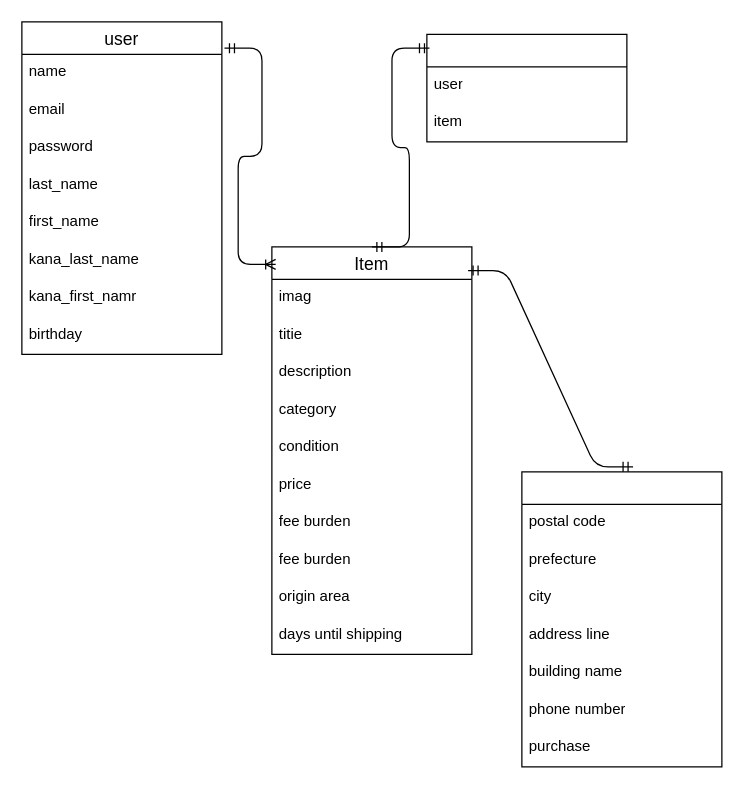
This 744x793 diagram has some shape labels left out. Each missing label, with the box of its shape:
Addresses: (521, 471, 722, 767)
buyer: (426, 33, 627, 142)
